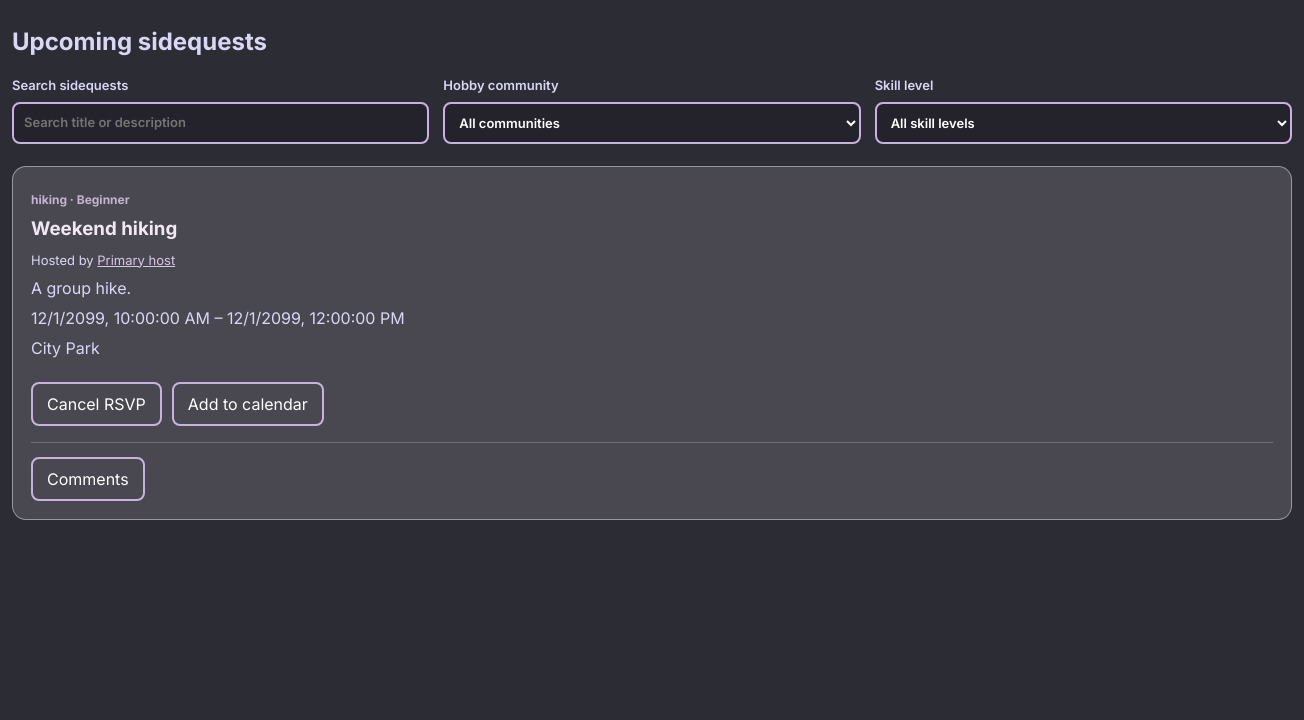
pending calendar creation blocks duplicate additions and RSVP cancellation
Later steps or results of the test are not shown.
Click the button "Add to calendar" at (248, 404), box [172,382,324,426]
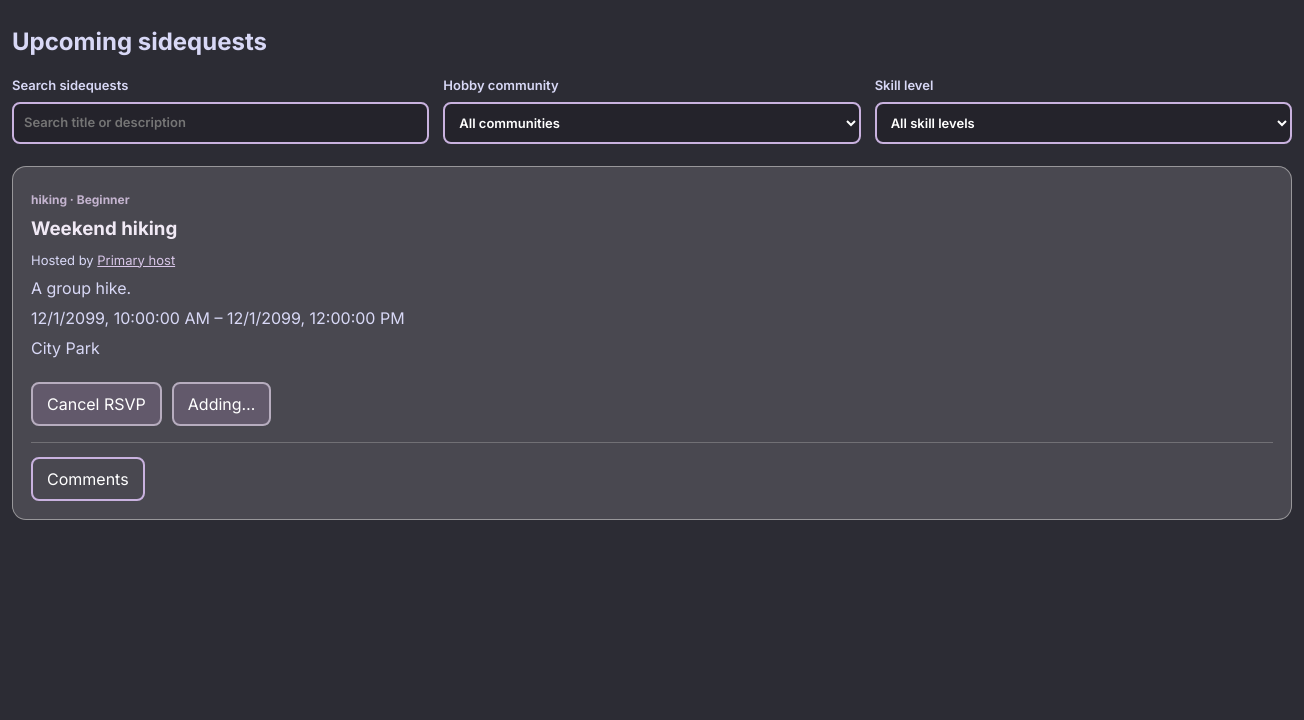
Now the button "Adding…" is disabled, box [172,382,271,426]
Now the button "Cancel RSVP" is disabled, box [31,382,162,426]
